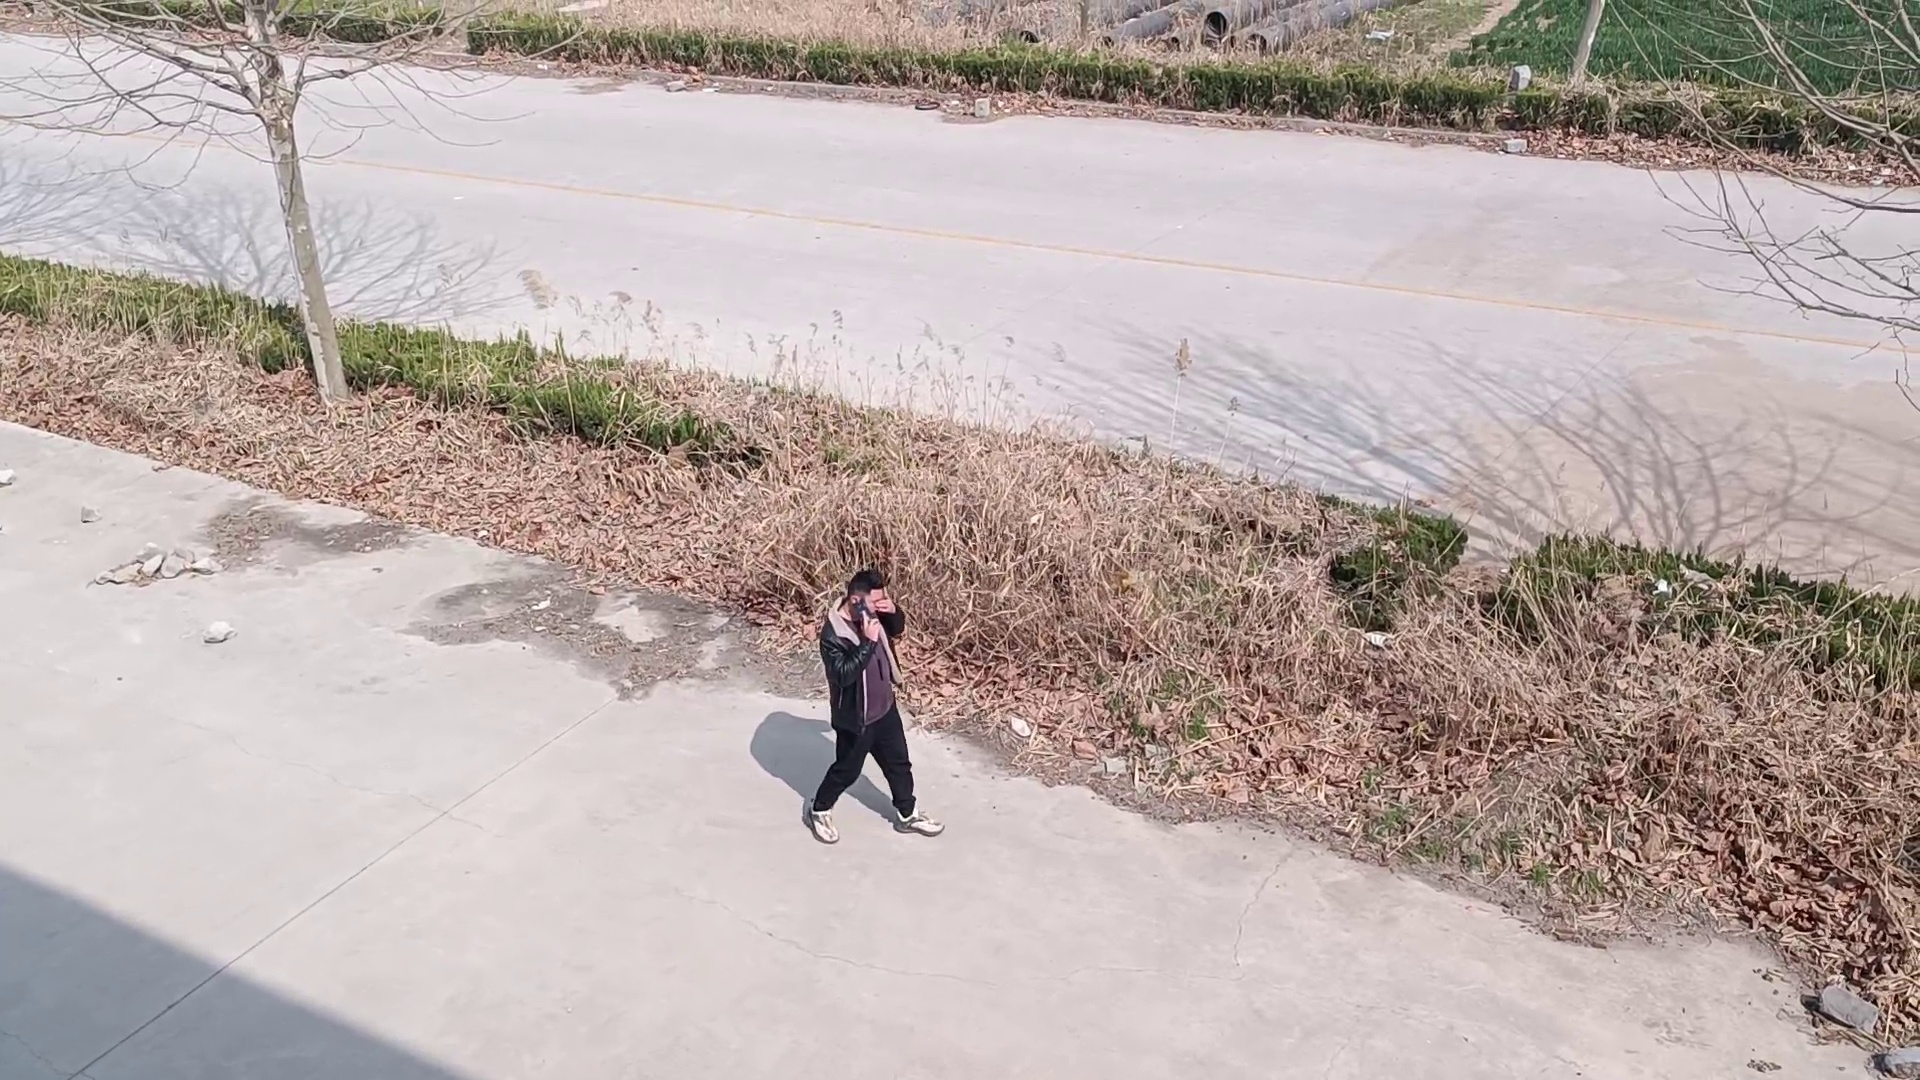phone: (841, 560, 886, 630)
